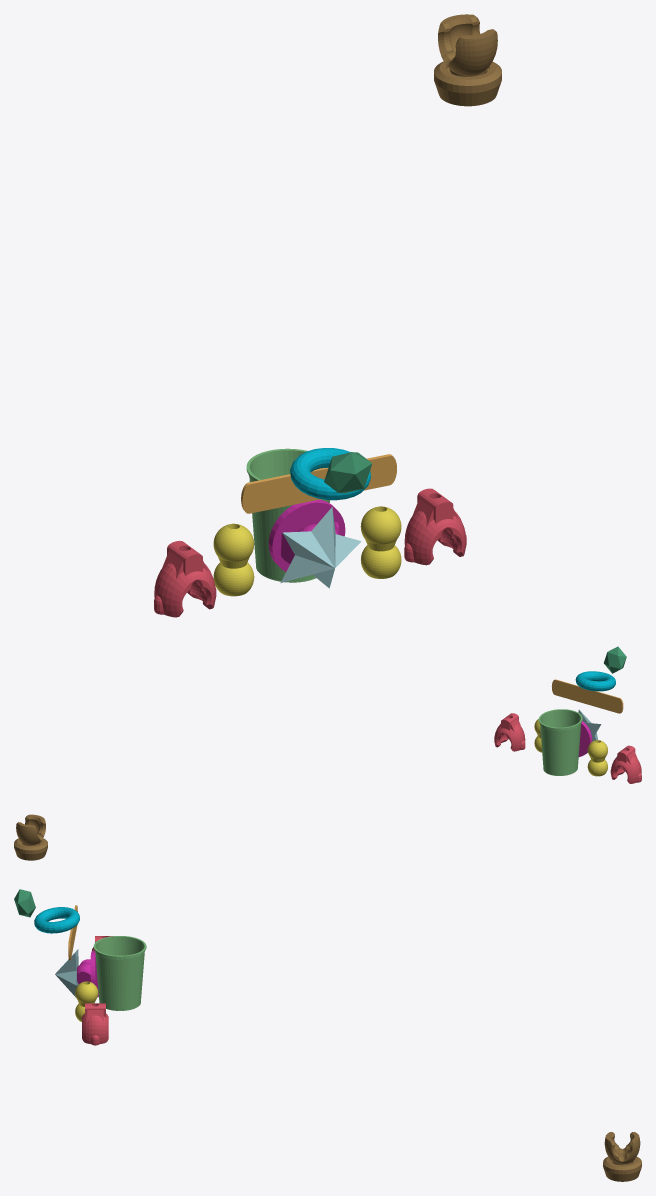
The model's file is drone.glb.
3 renders of one model, top to bottom at view 1: azimuth 30°, elevation 25°; view 2: azimuth 150°, elevation 25°; view 3: azimuth 270°, elevation 25°, orthographic. The views are drawn at different scales.
Visible parts, largest first — view 1: Mesh_Mesh_head_geo.001_lambert2SG.001; view 2: Mesh_Mesh_head_geo.001_lambert2SG.001; view 3: Mesh_Mesh_head_geo.001_lambert2SG.001.
Part boxes in pixels (left/top/right/bottom): Mesh_Mesh_head_geo.001_lambert2SG.001: left=154, top=14, right=501, bottom=617; Mesh_Mesh_head_geo.001_lambert2SG.001: left=14, top=646, right=641, bottom=860; Mesh_Mesh_head_geo.001_lambert2SG.001: left=14, top=889, right=641, bottom=1181.
Size of the model in its own units: 226 by 50.69 by 271.
